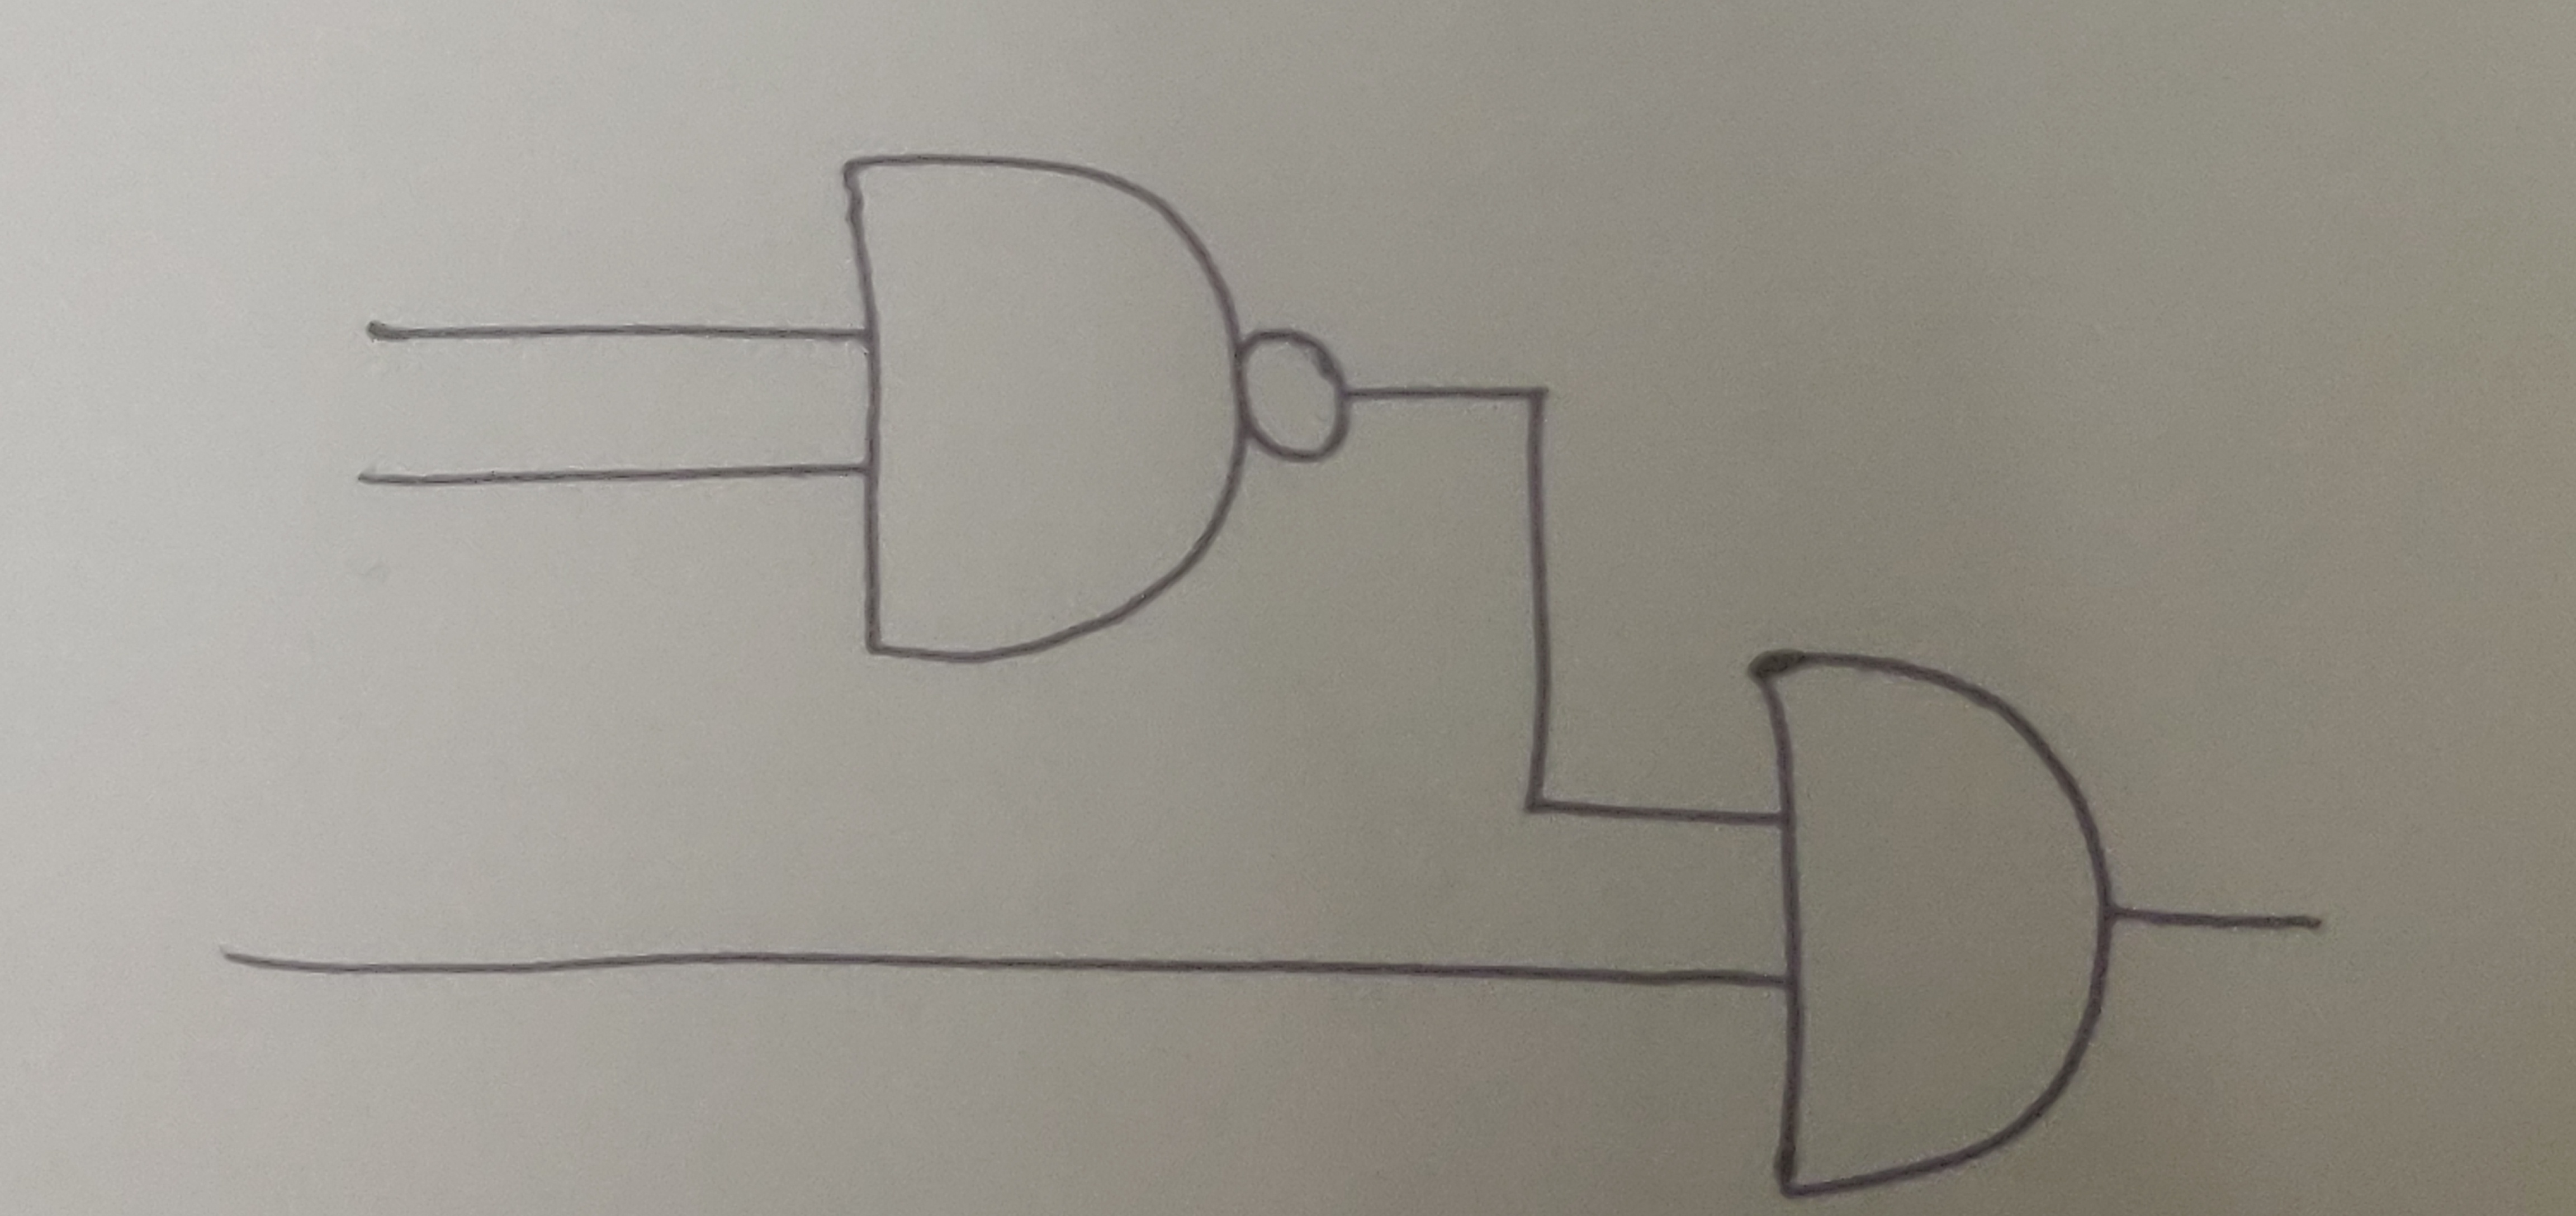and: (831, 148, 1249, 677), (1738, 647, 2136, 1196)
not: (1242, 325, 1360, 477)
